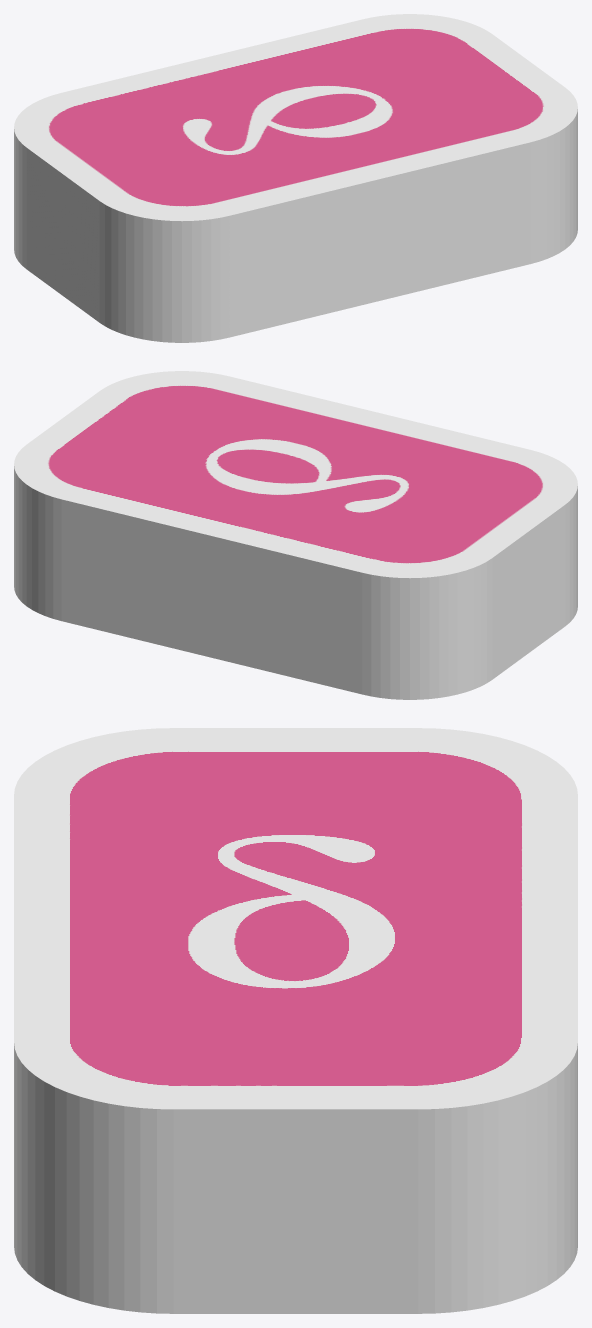
File: chapter_deck.fbx
3 renders of one model, top to bottom at view 1: azimuth 30°, elevation 25°; view 2: azimuth 150°, elevation 25°; view 3: azimuth 270°, elevation 25°, orthographic. The views are drawn at different scales.
Visible parts, largest first — view 1: Cube; view 2: Cube; view 3: Cube.
Part boxes in pixels (bbox=[...]): Cube: bbox=[14, 14, 577, 342]; Cube: bbox=[14, 371, 577, 699]; Cube: bbox=[14, 728, 577, 1313].
Bounding box in the file's own units: 8 × 2 × 5.
Materials: 1 (1 with a texture image).
